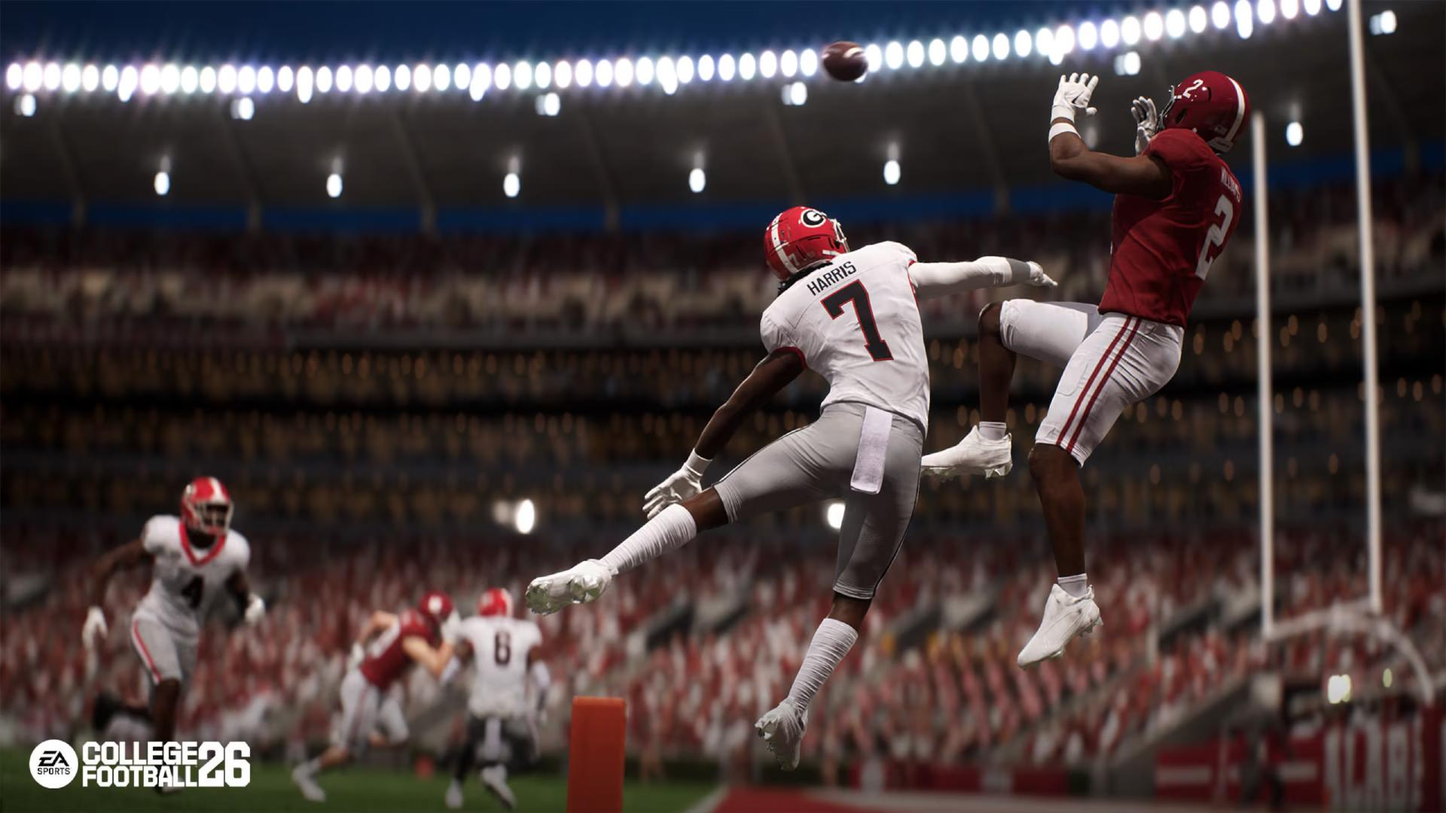americanFootball: (818, 44, 869, 79)
